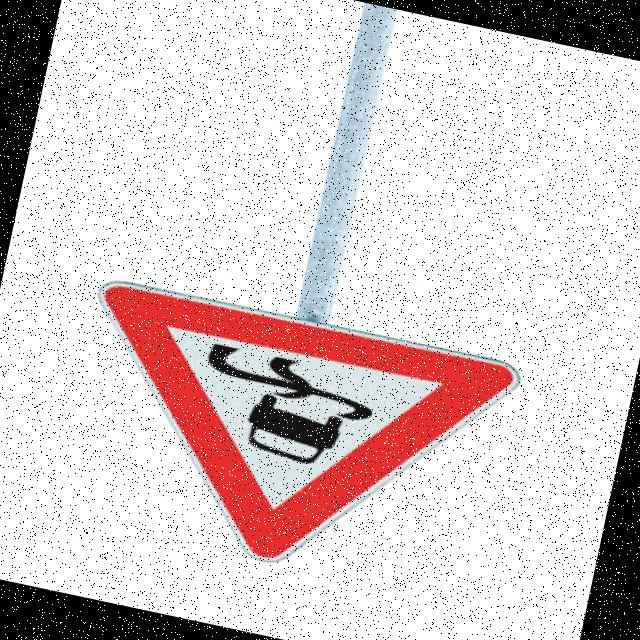road_slippery: (46, 268, 534, 615)
